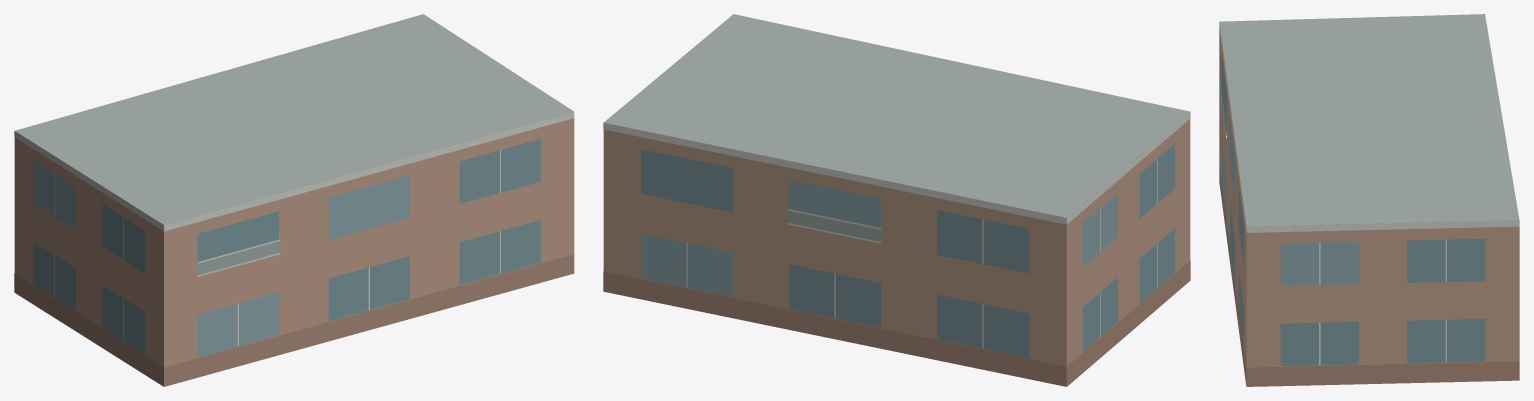
The model's file is survey-upis-32757126.glb.
3 views of the same model, side by side, from view 1: azimuth 30°, elevation 25°; view 2: azimuth 150°, elevation 25°; view 3: azimuth 270°, elevation 25° (orthographic). The views are drawn at different scales.
Parts seen in each view (by area): view 1: survey-upis-32757126.tmp; view 2: survey-upis-32757126.tmp; view 3: survey-upis-32757126.tmp.
Boxes of the visible parts, x1,y1,x2,y2 form: survey-upis-32757126.tmp: (14,14,574,386); survey-upis-32757126.tmp: (603,14,1190,386); survey-upis-32757126.tmp: (1219,14,1519,386).
Bounding box in the file's own units: 17.35 × 6.1 × 10.36.
